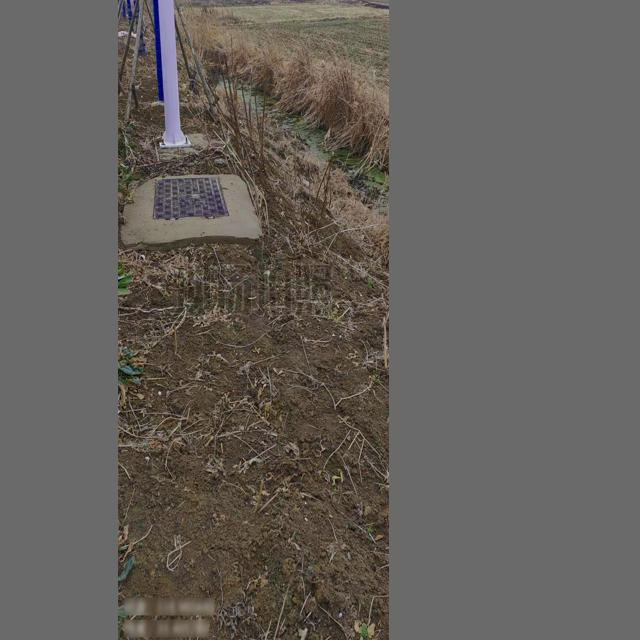good: (150, 177, 231, 221)
